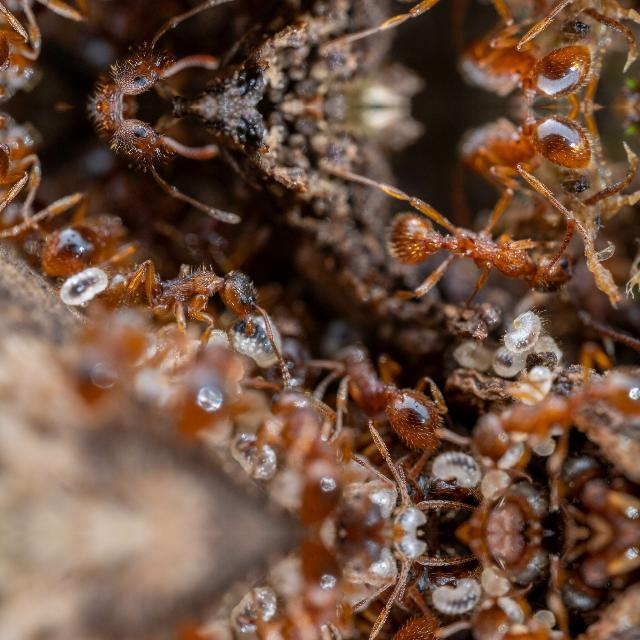Myrmica: (220, 378, 390, 530), (292, 316, 470, 450), (376, 199, 592, 303), (43, 239, 290, 329), (453, 346, 639, 464), (438, 105, 628, 208), (438, 3, 628, 106), (220, 534, 388, 640), (35, 106, 225, 186), (35, 26, 225, 106), (0, 108, 80, 278), (58, 303, 164, 409), (160, 336, 250, 448), (30, 196, 128, 294), (540, 445, 638, 531), (540, 534, 638, 620), (0, 0, 80, 102), (453, 600, 639, 640), (455, 480, 559, 532), (455, 533, 559, 585), (160, 616, 250, 640)
